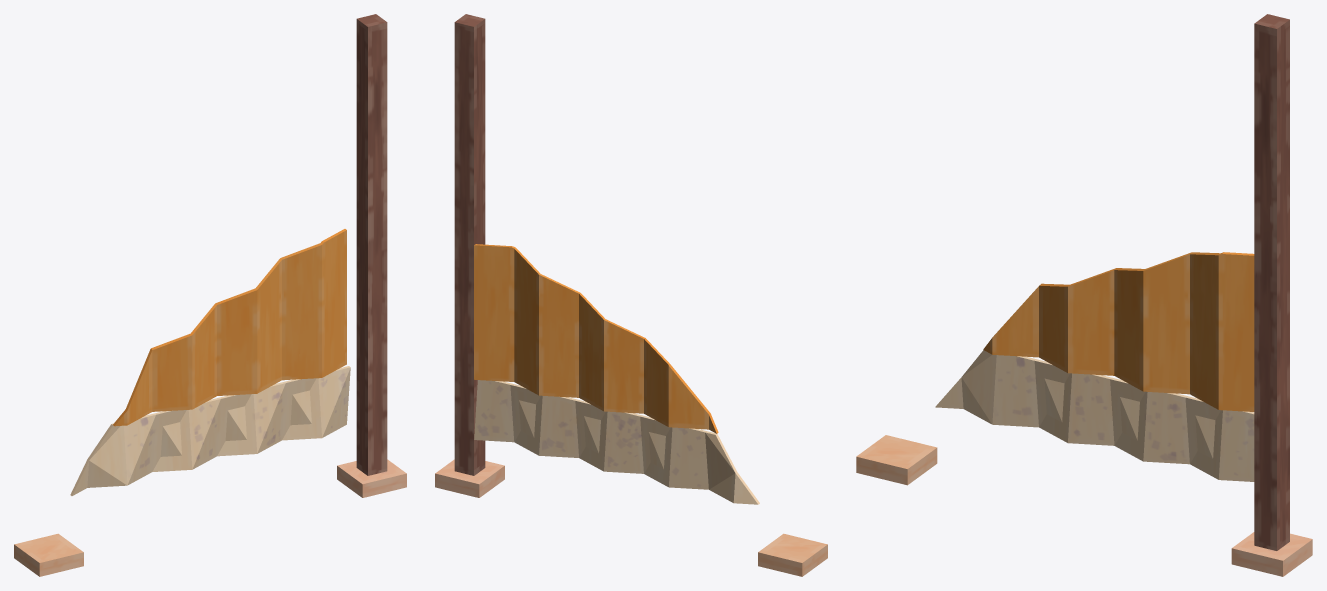
File: rack_saffron_s00.fbx
3 renders of one model, left to right at view 1: azimuth 30°, elevation 25°; view 2: azimuth 150°, elevation 25°; view 3: azimuth 330°, elevation 25°, orthographic. The views are drawn at different scales.
Visible parts, largest first — view 1: rack_saffron_s00; view 2: rack_saffron_s00; view 3: rack_saffron_s00.
Boxes of the visible parts, x1,y1,x2,y2 form: rack_saffron_s00: (14, 14, 406, 576); rack_saffron_s00: (435, 14, 827, 576); rack_saffron_s00: (856, 14, 1312, 576).
Size of the model in its own units: 8.3 by 10 by 1.
